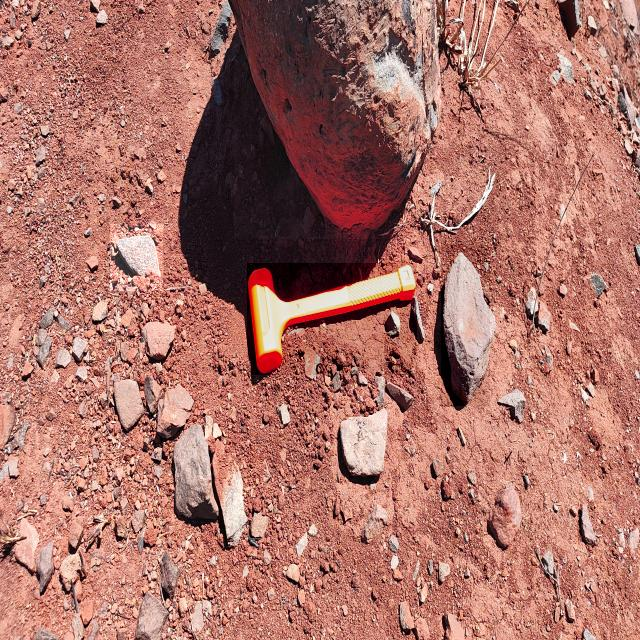Orange_hammer: (247, 263, 417, 375)
rock: (234, 0, 444, 239), (441, 244, 490, 406), (172, 426, 218, 524), (110, 224, 163, 291)
